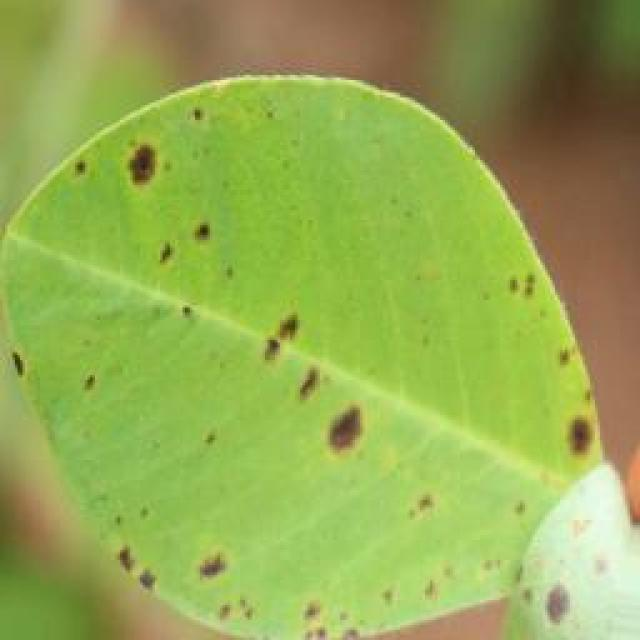Yellowish: (0, 87, 610, 632)
